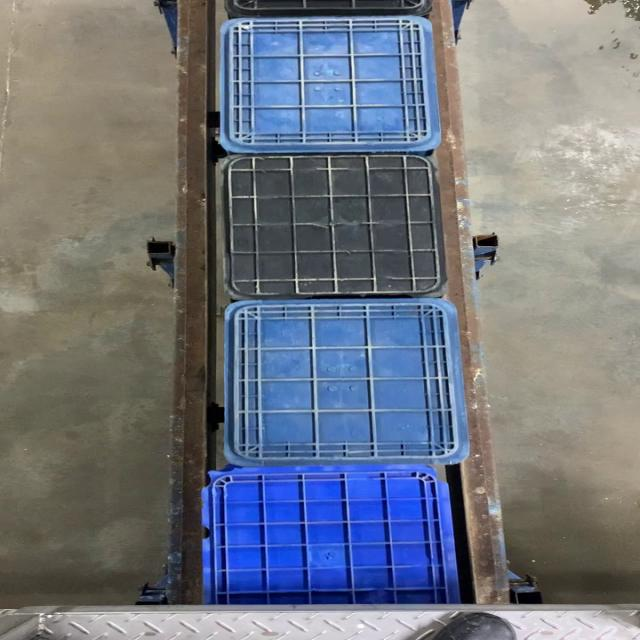Box: (221, 301, 479, 467), (210, 152, 458, 302), (211, 15, 447, 152)
